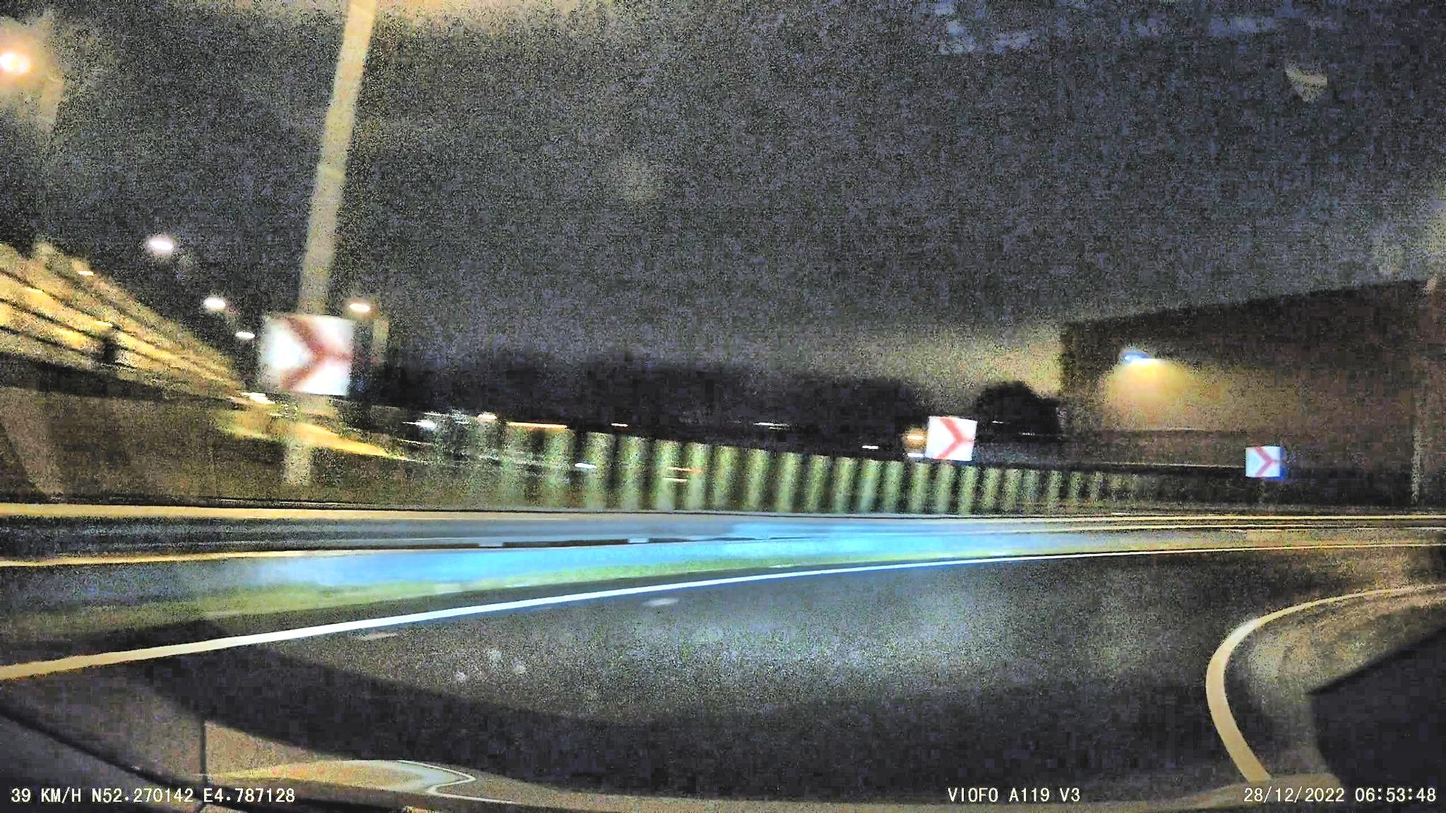Roads: (0, 547, 1446, 813)
